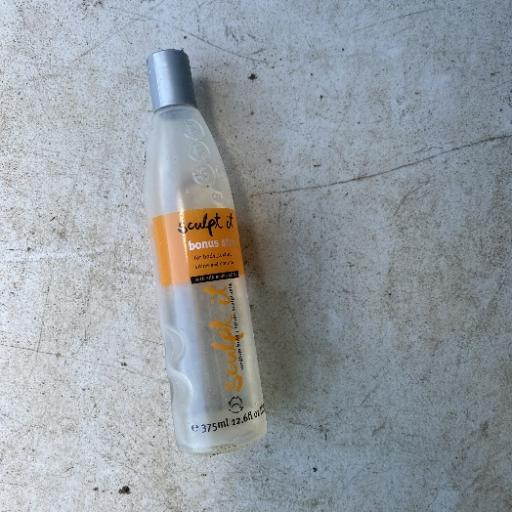Plastic: (140, 47, 270, 456)
